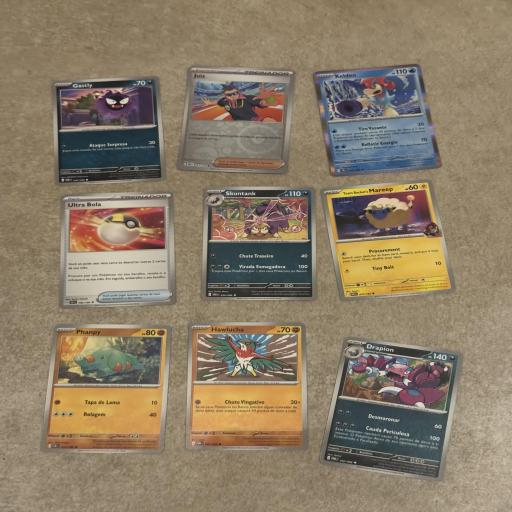card: (319, 333, 463, 482), (320, 177, 457, 304), (39, 323, 171, 454), (185, 322, 309, 450), (312, 62, 443, 178), (54, 190, 177, 309), (199, 186, 317, 301), (49, 75, 167, 187), (176, 64, 296, 174)
